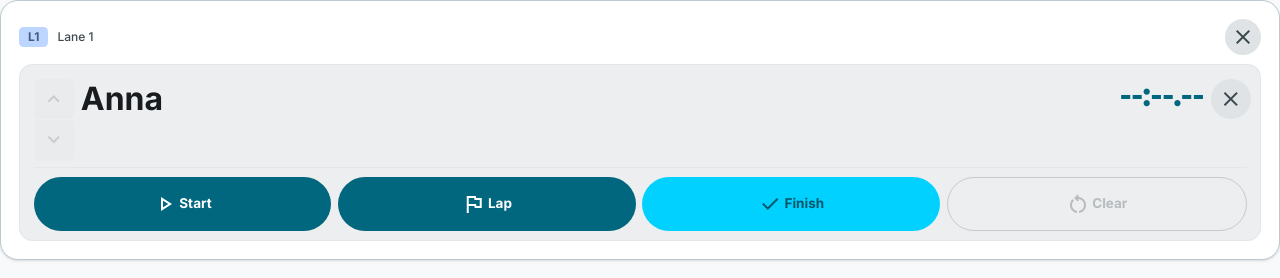
Test case: desktop secondary clicks are inert › primary-button press-and-hold still opens the menu on desktop
Press the mouse on the text "Anna": (640, 153) [19, 64, 1261, 241]
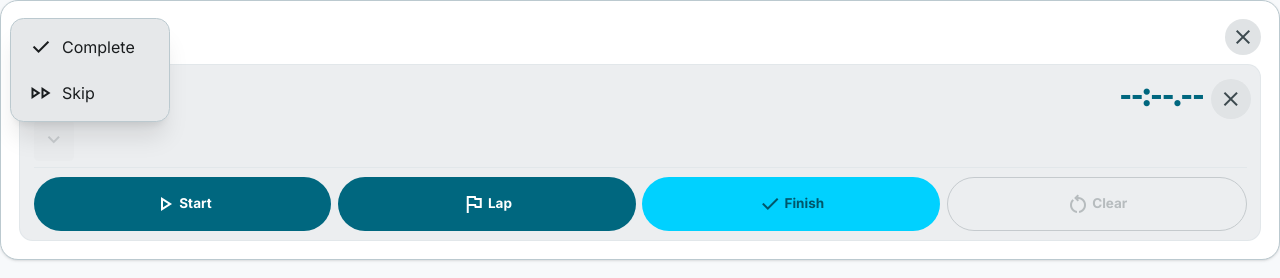
Now the button "Skip" is shown, box [16, 70, 164, 116]
